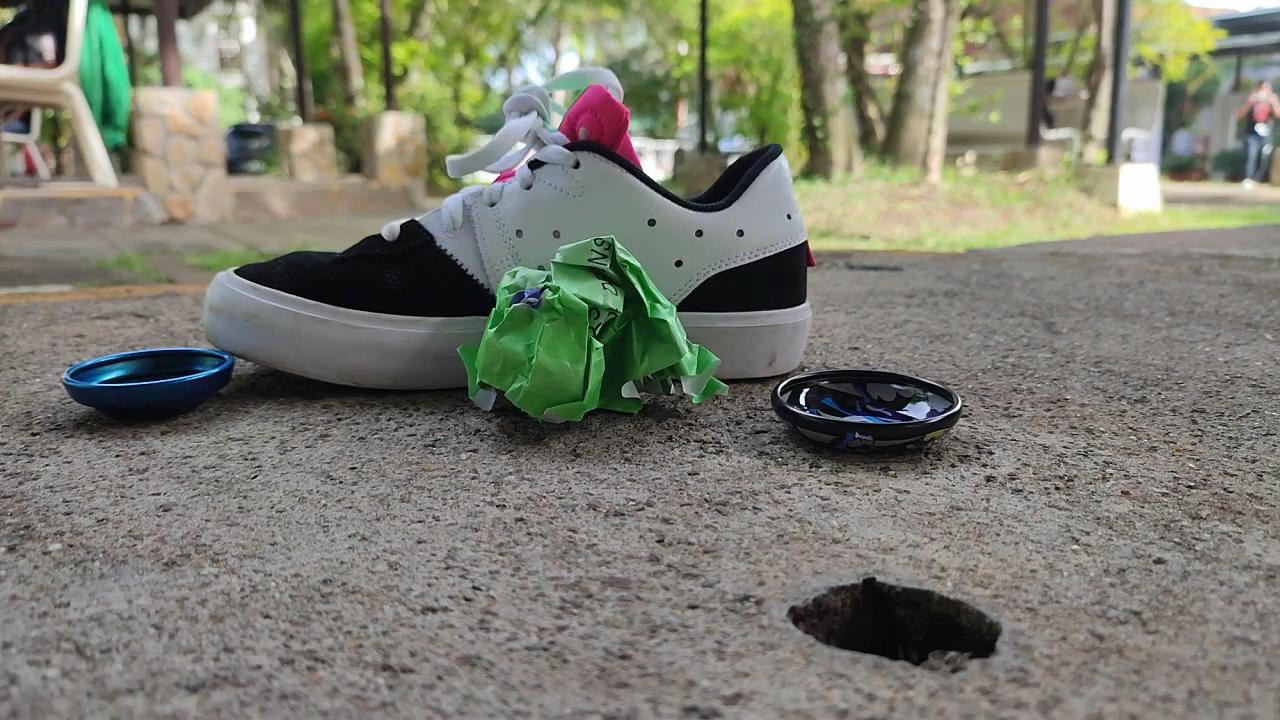Paper: (446, 220, 739, 435)
